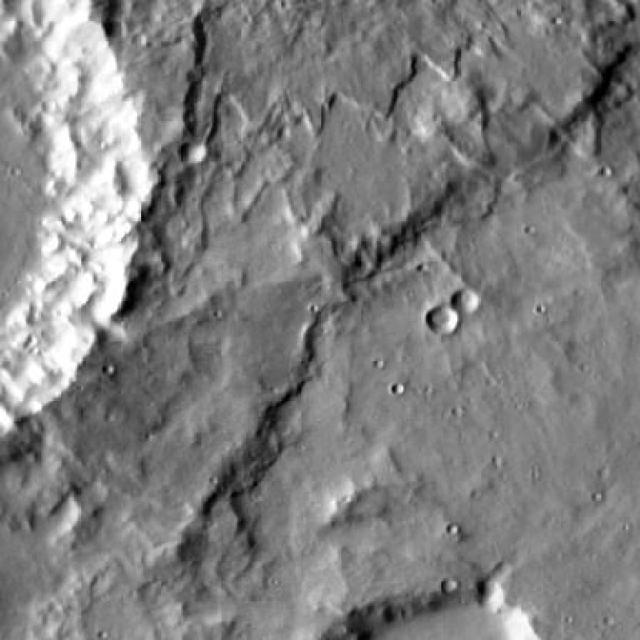crater: (2, 0, 146, 437), (429, 308, 462, 338), (453, 290, 482, 316), (182, 141, 209, 165)
